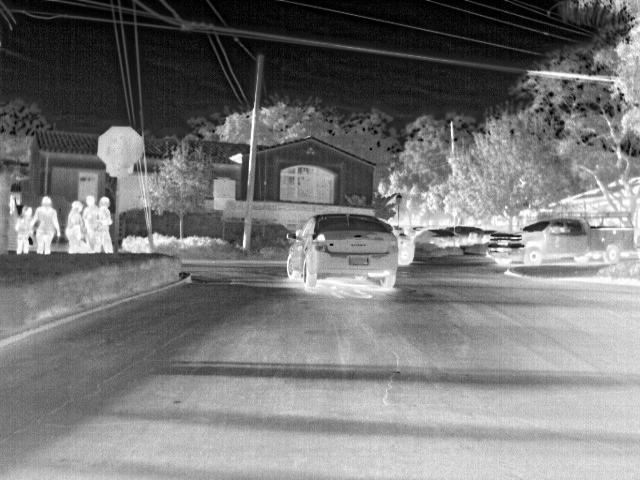car: (285, 213, 400, 292), (486, 219, 635, 267), (418, 226, 455, 246), (399, 226, 415, 265), (454, 223, 475, 241), (469, 228, 488, 244)
person: (36, 195, 56, 254), (66, 198, 85, 254), (15, 204, 35, 254), (100, 193, 115, 253), (85, 194, 99, 254)
